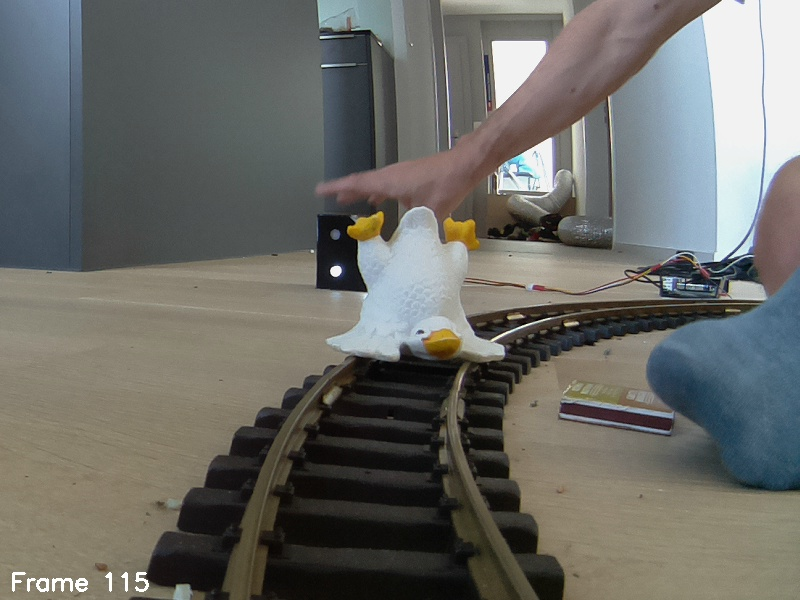Ente: (321, 205, 508, 369)
